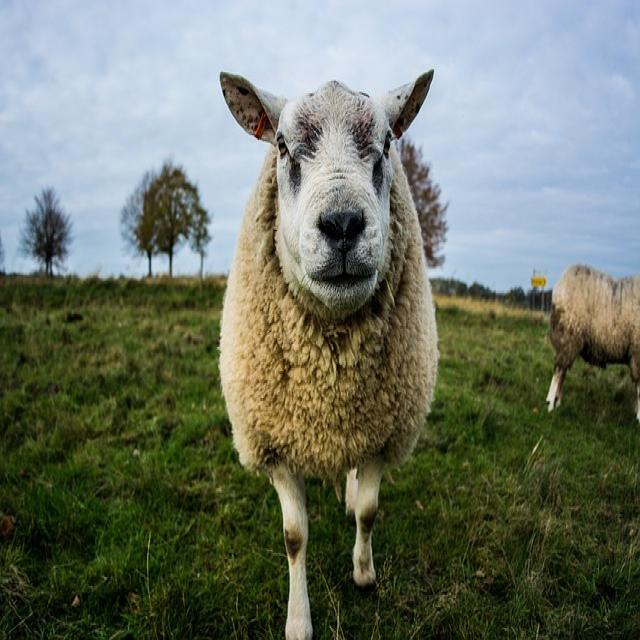goat: (217, 72, 447, 640)
